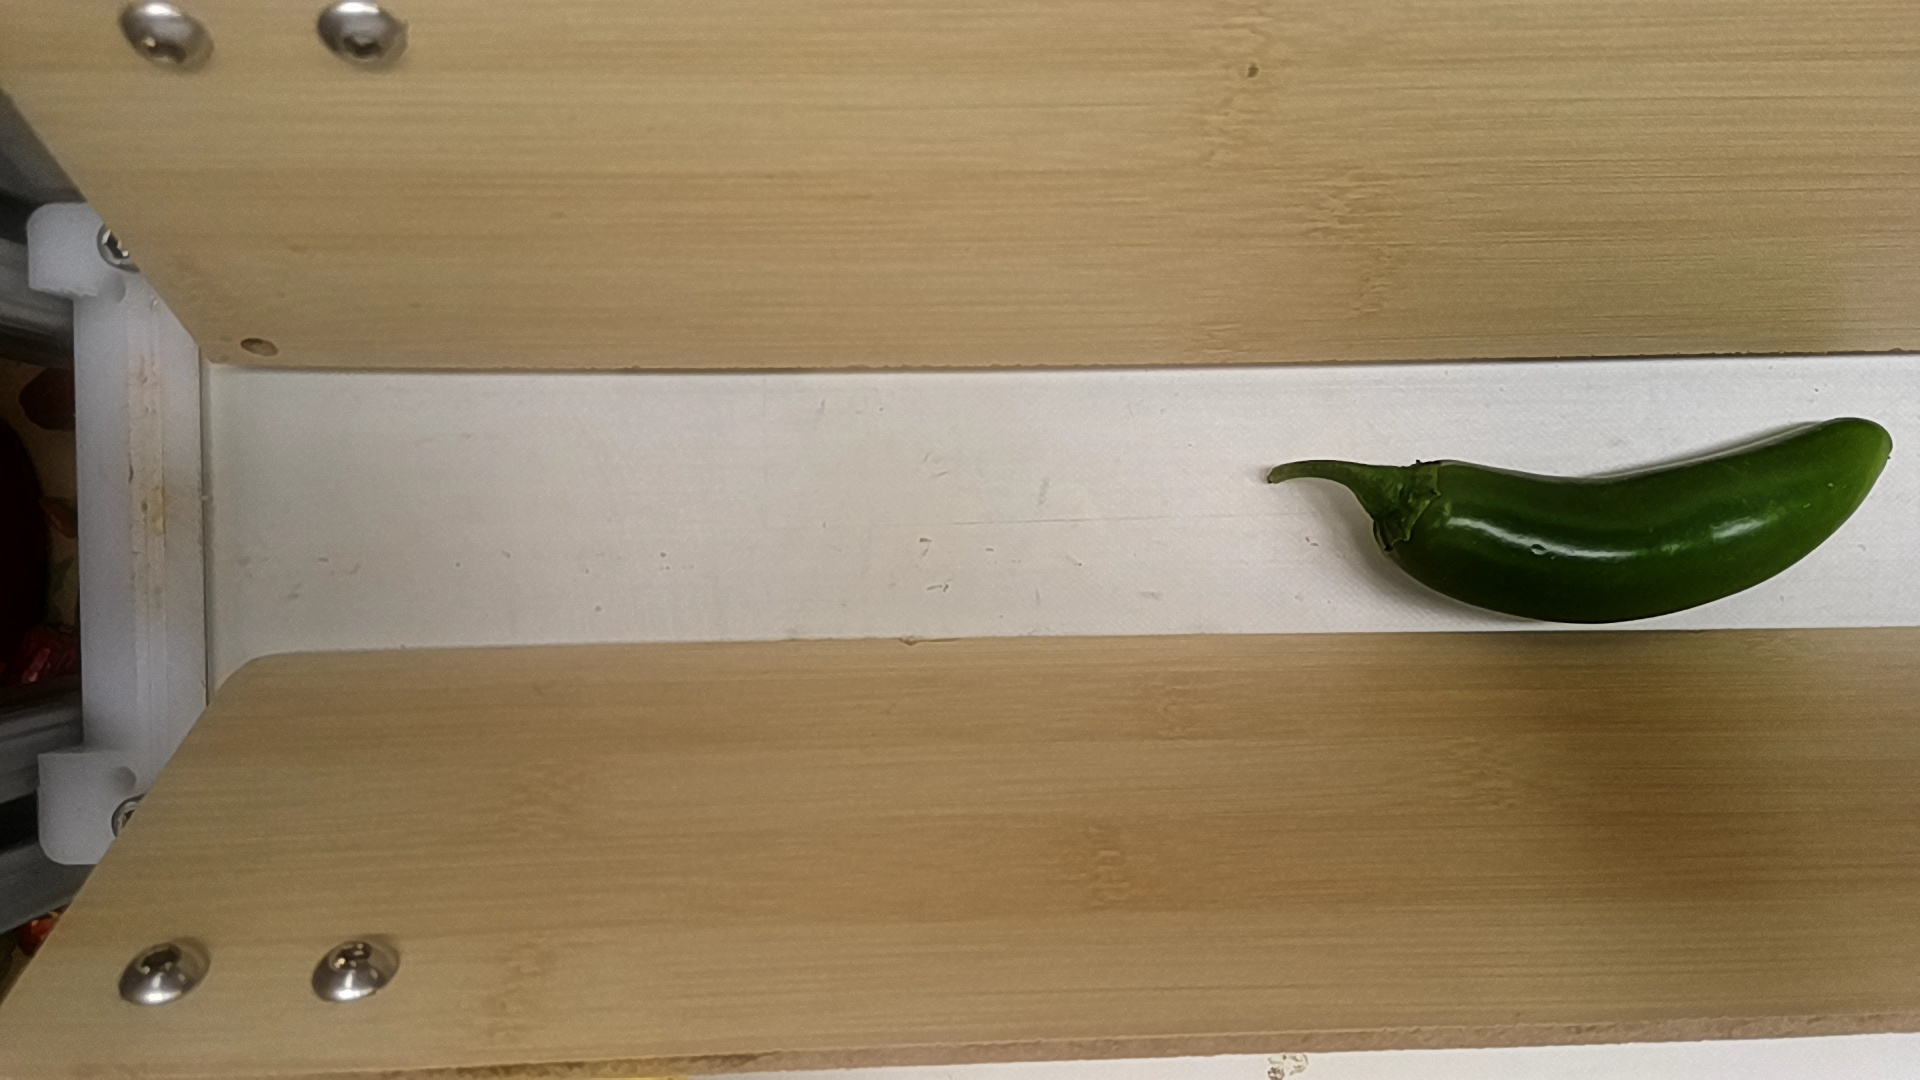Cut Point: (1364, 446, 1458, 578)
